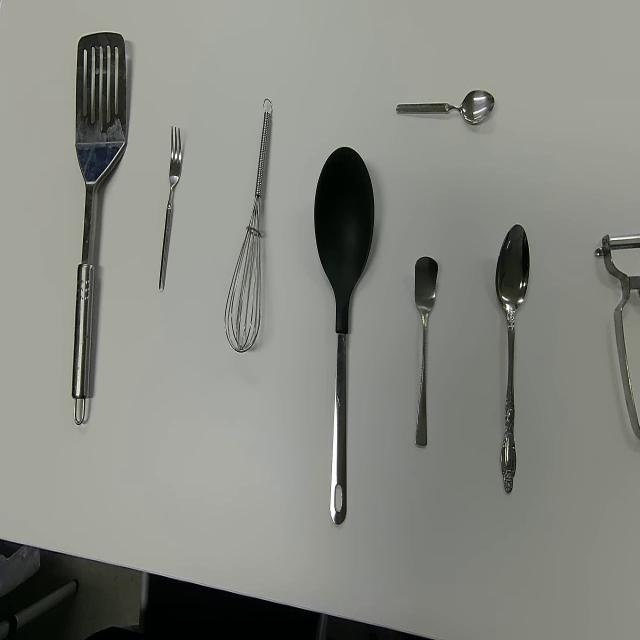Desert-Spoon: (494, 222, 530, 497)
Dinner-Fork: (158, 125, 183, 292)
Peeler: (593, 231, 640, 442)
Serving-Spoon: (314, 145, 376, 528), (71, 31, 128, 427)
Tea-Spoon: (414, 255, 439, 449), (395, 87, 496, 125)
Whisk: (224, 96, 274, 354)
